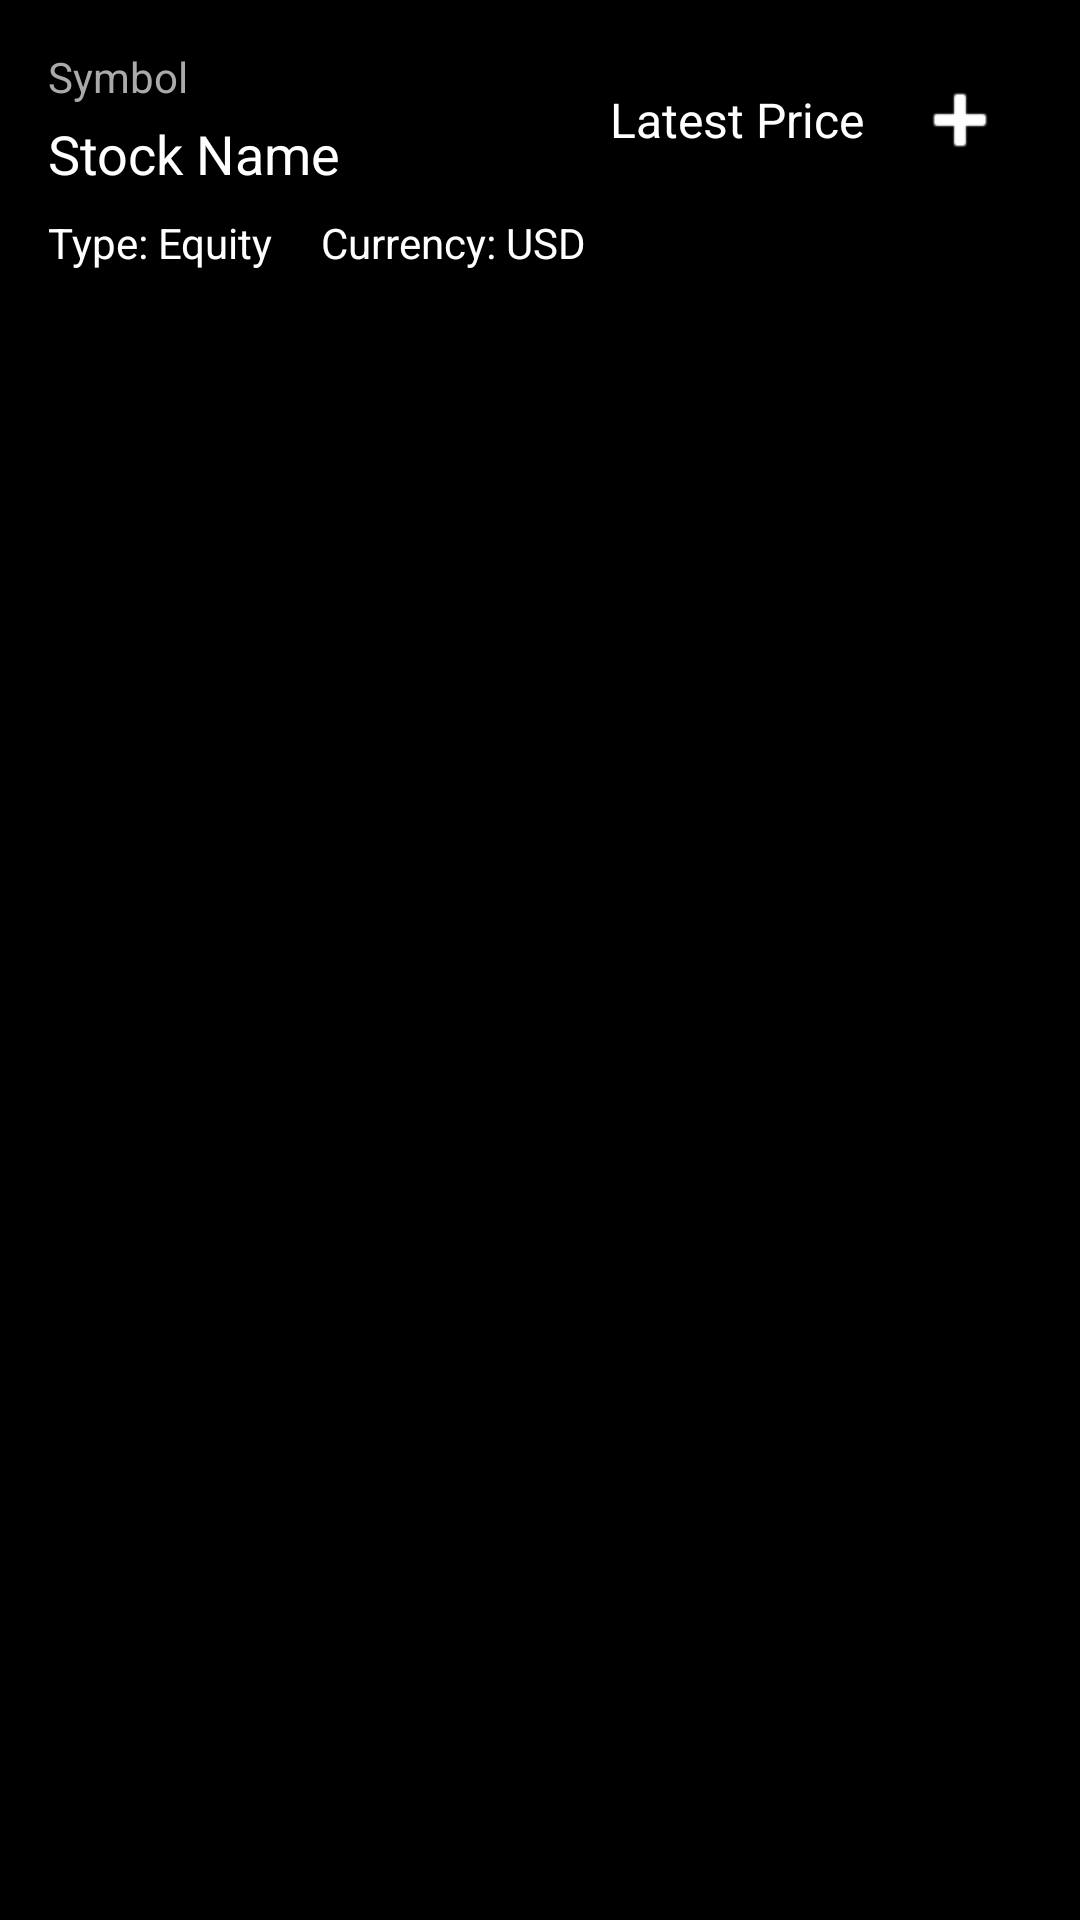

Named icons in this screenshot (1080*1920) and their centers, (x=x, y=y):
Add: (x=960, y=120)
